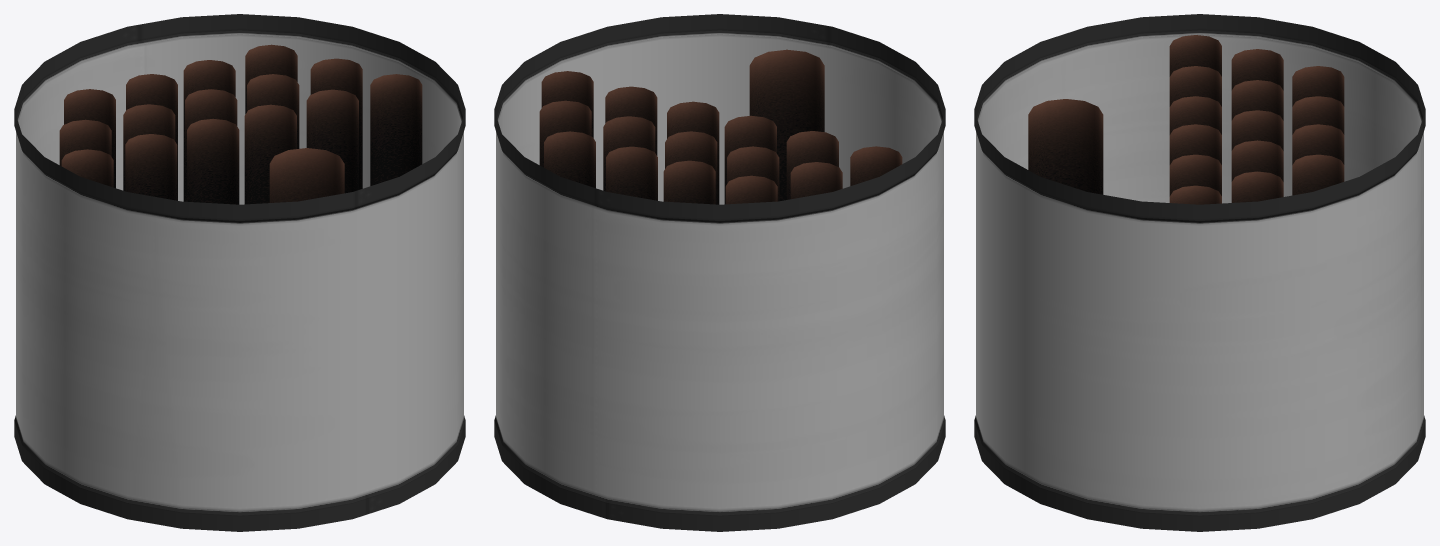
The model's file is 1.25m_Boiler_1m.obj.
3 renders of one model, left to right at view 1: azimuth 30°, elevation 25°; view 2: azimuth 150°, elevation 25°; view 3: azimuth 270°, elevation 25°, orthographic.
Visible parts, largest first — view 1: 1.25m_Boiler_Jacket; view 2: 1.25m_Boiler_Jacket; view 3: 1.25m_Boiler_Jacket.
Boxes of the visible parts, x1,y1,x2,y2 form: 1.25m_Boiler_Jacket: (14, 14, 465, 531); 1.25m_Boiler_Jacket: (494, 14, 945, 531); 1.25m_Boiler_Jacket: (974, 14, 1425, 531).
Bounding box in the file's own units: 1.25 × 1 × 1.25.
Materials: 1 (1 with a texture image).
